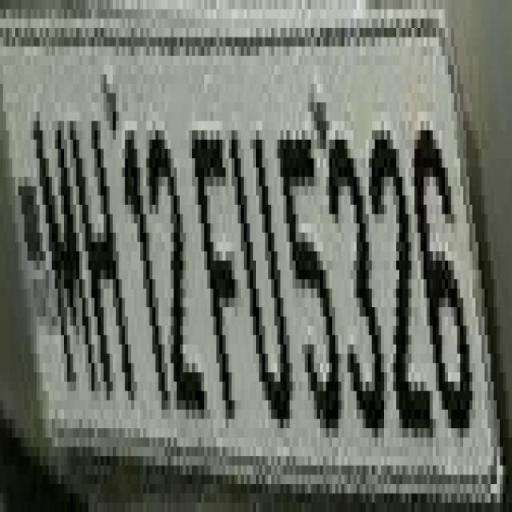number plate: (0, 38, 485, 484)
